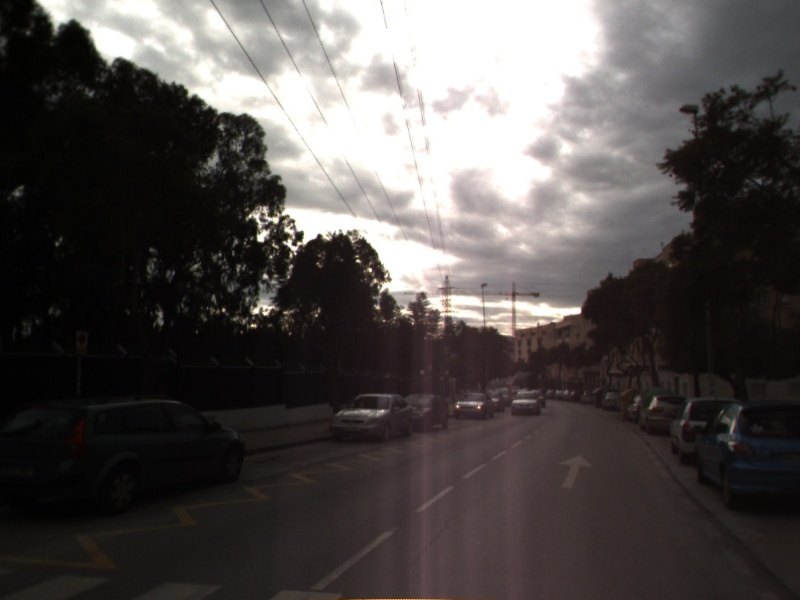STRAIGHT: (556, 452, 596, 490)
